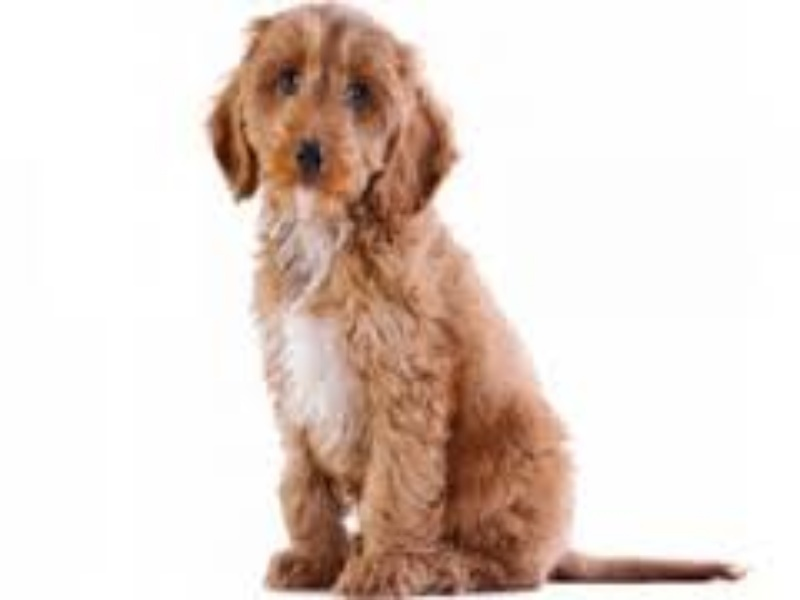dog: (198, 3, 758, 600)
